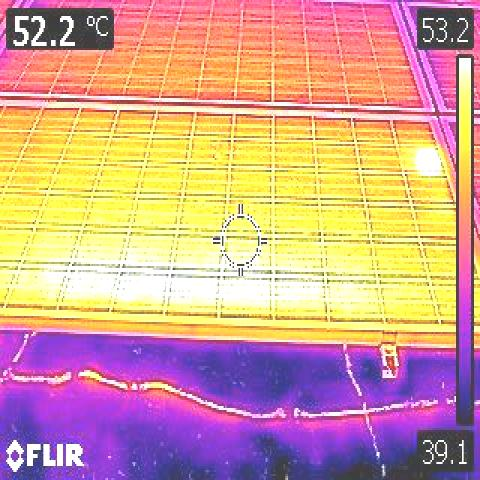fault: (401, 144, 441, 174)
